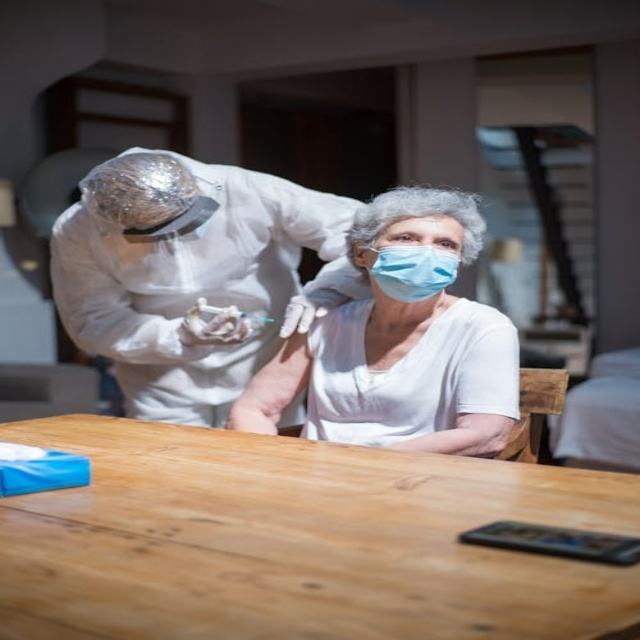Guantes: (164, 293, 262, 349), (270, 276, 355, 334)
Mascara: (365, 240, 465, 303), (164, 210, 221, 250)
Sin_gafas: (379, 224, 470, 250)
